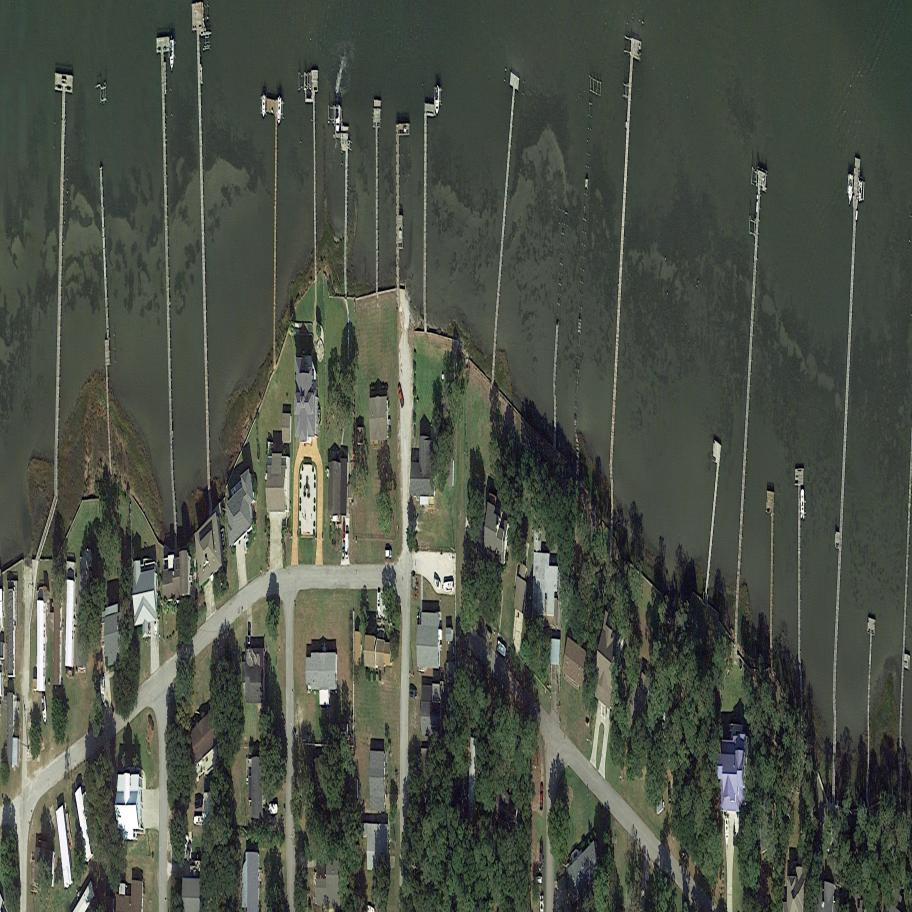large-vehicle: (655, 798, 666, 817), (345, 534, 349, 558)
ship: (492, 639, 512, 659), (40, 694, 47, 724), (100, 675, 106, 705), (848, 174, 854, 204), (335, 106, 341, 134), (276, 96, 282, 124), (169, 38, 174, 71), (724, 816, 729, 848), (800, 489, 805, 520), (268, 802, 278, 816), (442, 581, 453, 593), (539, 844, 544, 869), (261, 95, 266, 118), (858, 179, 863, 201), (193, 815, 203, 825), (535, 873, 543, 885), (436, 86, 439, 115)
small-vehicle: (481, 624, 496, 643), (181, 831, 190, 858), (397, 383, 406, 409), (184, 837, 193, 862), (193, 798, 205, 808), (433, 578, 441, 592), (409, 687, 417, 699), (667, 781, 671, 804), (540, 781, 543, 811), (377, 591, 381, 613), (385, 548, 392, 559), (248, 626, 251, 649), (342, 542, 345, 562), (343, 521, 345, 541)
